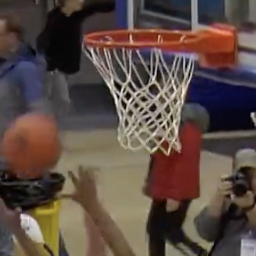hoop: (83, 30, 234, 153)
